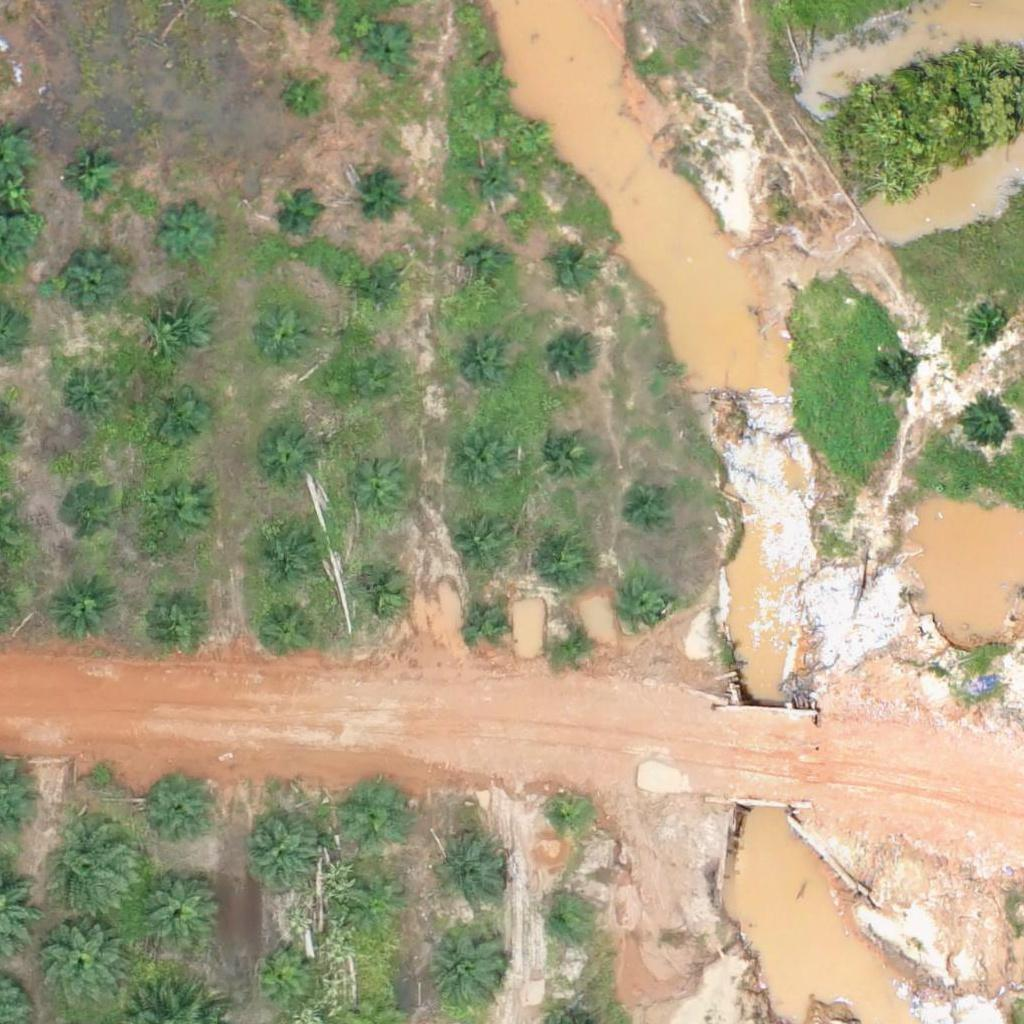Kelapa_Sawit: (44, 820, 144, 920), (42, 920, 129, 1009), (241, 809, 328, 897), (136, 866, 223, 954), (431, 831, 506, 907), (141, 776, 216, 852), (431, 928, 506, 1004), (335, 358, 398, 421), (450, 334, 513, 397), (58, 151, 121, 214), (62, 251, 125, 314), (49, 578, 112, 641), (448, 431, 511, 494), (145, 476, 208, 539), (143, 583, 206, 646), (59, 483, 122, 546), (255, 600, 318, 663), (344, 781, 407, 844), (535, 527, 598, 590), (449, 512, 512, 575), (146, 390, 208, 453), (257, 305, 319, 368), (156, 203, 218, 266), (259, 522, 321, 585), (256, 426, 318, 489), (350, 877, 412, 940), (345, 464, 407, 527), (350, 562, 412, 625), (535, 422, 597, 485), (152, 303, 214, 366), (249, 943, 311, 1005), (462, 597, 512, 648), (548, 618, 598, 669), (62, 372, 112, 422), (551, 333, 601, 383), (358, 164, 408, 214), (276, 189, 326, 239), (465, 159, 515, 209), (364, 28, 414, 78), (461, 244, 511, 294), (547, 243, 597, 293), (960, 401, 1010, 451), (619, 584, 669, 634), (629, 479, 679, 529), (541, 792, 591, 842), (537, 899, 587, 949), (963, 297, 1013, 347), (872, 353, 922, 403), (355, 268, 405, 318), (473, 66, 511, 104), (285, 77, 323, 115)
